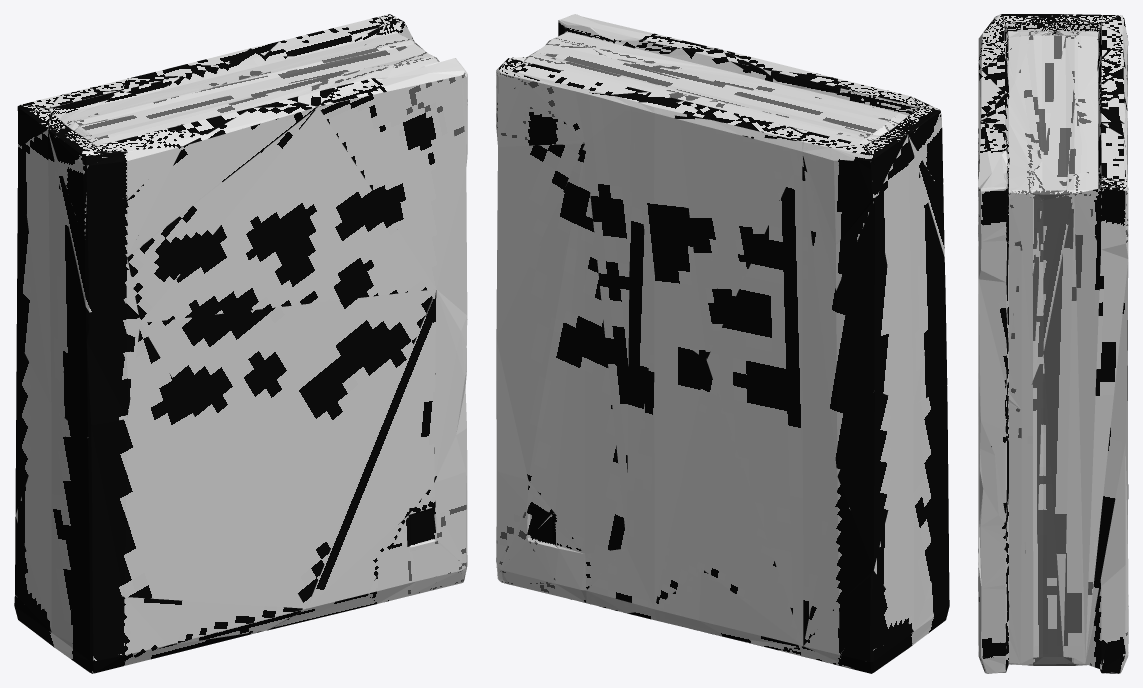
3 renders of one model, left to right at view 1: azimuth 30°, elevation 25°; view 2: azimuth 150°, elevation 25°; view 3: azimuth 270°, elevation 25°, orthographic. The views are drawn at different scales.
Parts seen in each view (by area): view 1: OBJ135; view 2: OBJ135; view 3: OBJ135.
Part boxes in pixels (x1=…): OBJ135: x1=14, y1=14, x2=467, y2=673; OBJ135: x1=496, y1=14, x2=949, y2=673; OBJ135: x1=978, y1=14, x2=1128, y2=673.
Bounding box in the file's own units: 0.2807 × 0.3649 × 0.102.
1 material, 1 textured.
